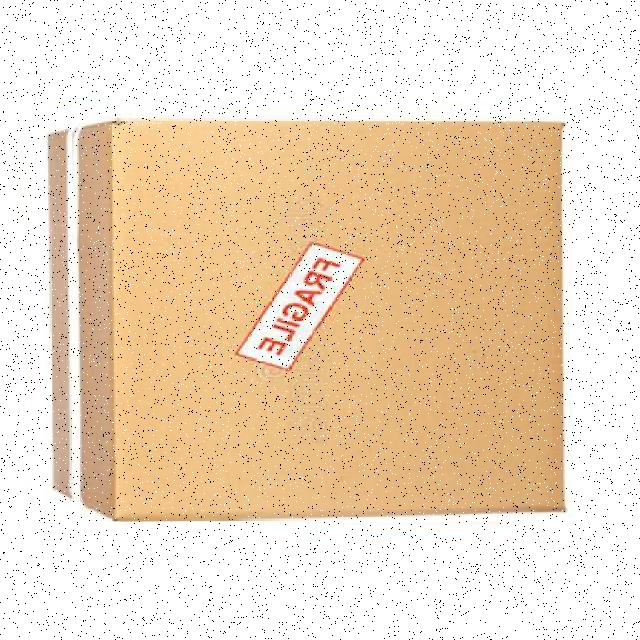normal: (34, 112, 577, 522)
